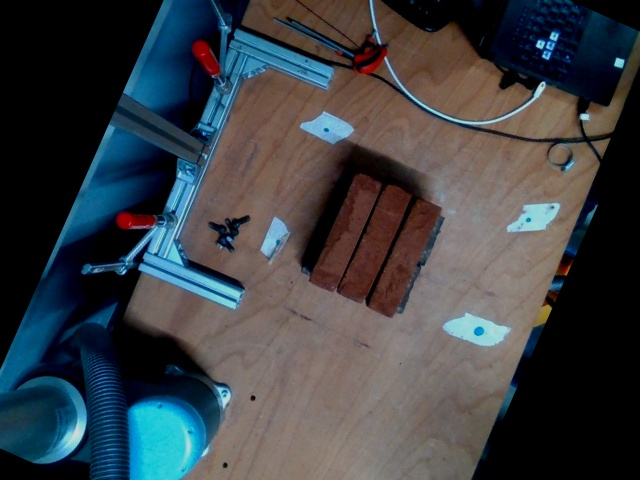brick-side: (310, 172, 384, 292), (338, 183, 412, 303), (367, 198, 441, 318)
